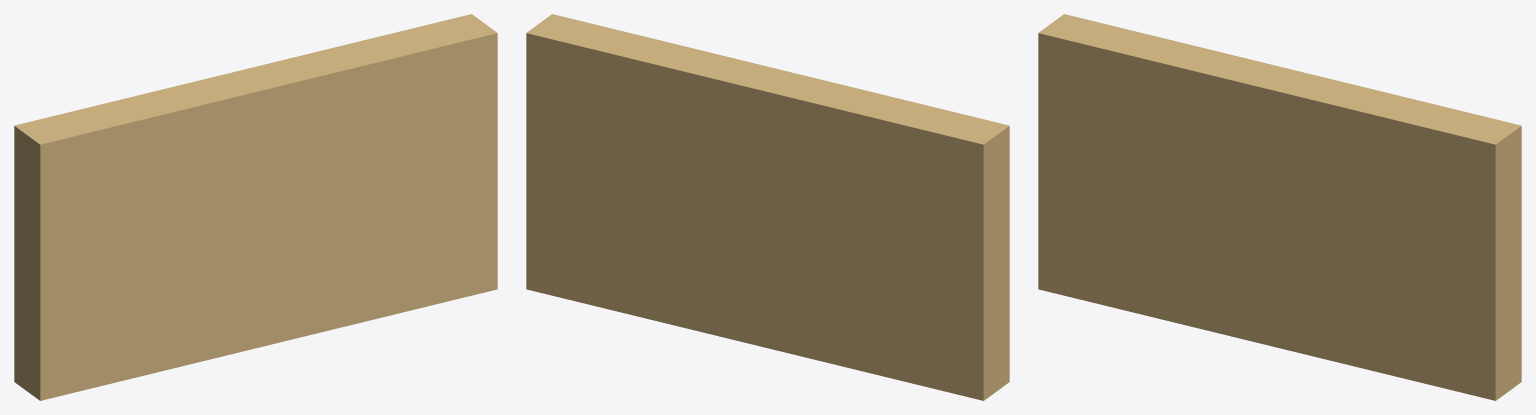
3 views of the same model, side by side, from view 1: azimuth 30°, elevation 25°; view 2: azimuth 150°, elevation 25°; view 3: azimuth 330°, elevation 25° (orthographic).
Visible parts, largest first — view 1: GF-L12-BLK-SUP-B4-S1-002; view 2: GF-L12-BLK-SUP-B4-S1-002; view 3: GF-L12-BLK-SUP-B4-S1-002.
Part boxes in pixels (bbox=[...]): GF-L12-BLK-SUP-B4-S1-002: bbox=[14, 14, 497, 400]; GF-L12-BLK-SUP-B4-S1-002: bbox=[526, 14, 1009, 400]; GF-L12-BLK-SUP-B4-S1-002: bbox=[1038, 14, 1521, 400].
Bounding box in the file's own units: 0.355 × 0.19 × 0.035.
